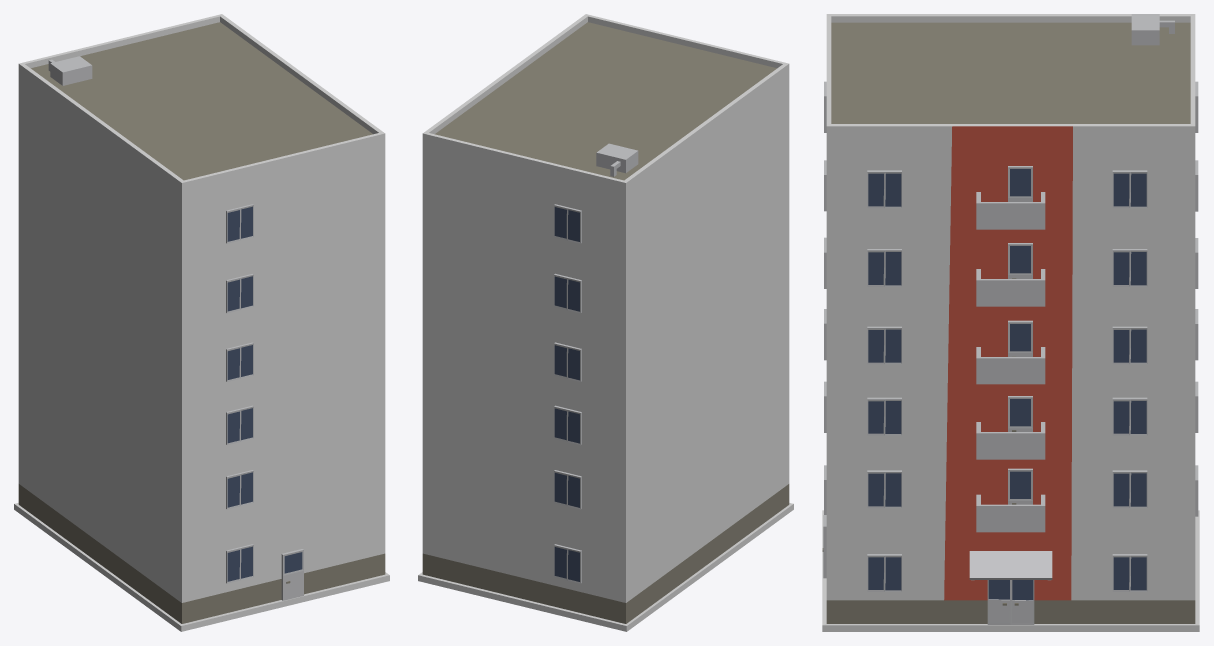
The model's file is apartment_complex_08.glb.
The picture shows the model from 3 angles, left to right: view 1: azimuth 30°, elevation 25°; view 2: azimuth 150°, elevation 25°; view 3: azimuth 270°, elevation 25°; orthographic projection. The views are drawn at different scales.
Parts seen in each view (by area): view 1: Cube.003; view 2: Cube.003; view 3: Cube.003.
Part boxes in pixels (x1=…): Cube.003: x1=14, y1=14, x2=389, y2=631; Cube.003: x1=418, y1=14, x2=793, y2=631; Cube.003: x1=822, y1=14, x2=1199, y2=631.
Bounding box in the file's own units: 1.77 × 3.28 × 2.19.
